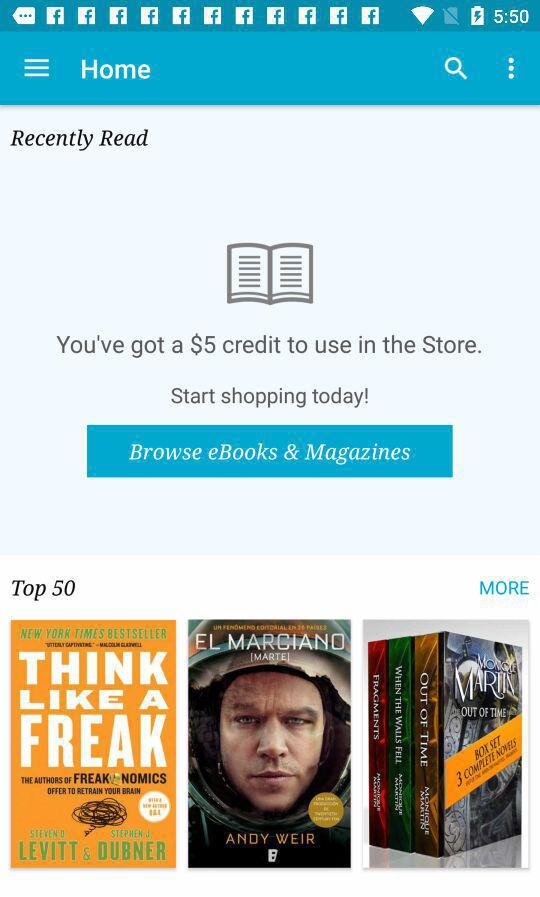Icon: (445, 57, 469, 82), (24, 58, 51, 78), (507, 57, 515, 81)
Image: (362, 619, 530, 869), (11, 620, 177, 869), (188, 619, 352, 868), (227, 242, 314, 306)
Text: (57, 334, 482, 359), (172, 387, 370, 409), (10, 129, 150, 152), (12, 579, 77, 602), (82, 60, 152, 81), (479, 580, 530, 596)
TextButton: (87, 425, 454, 479)
Toolbar: (1, 33, 539, 105)
UpperTaskBar: (1, 1, 540, 33)
